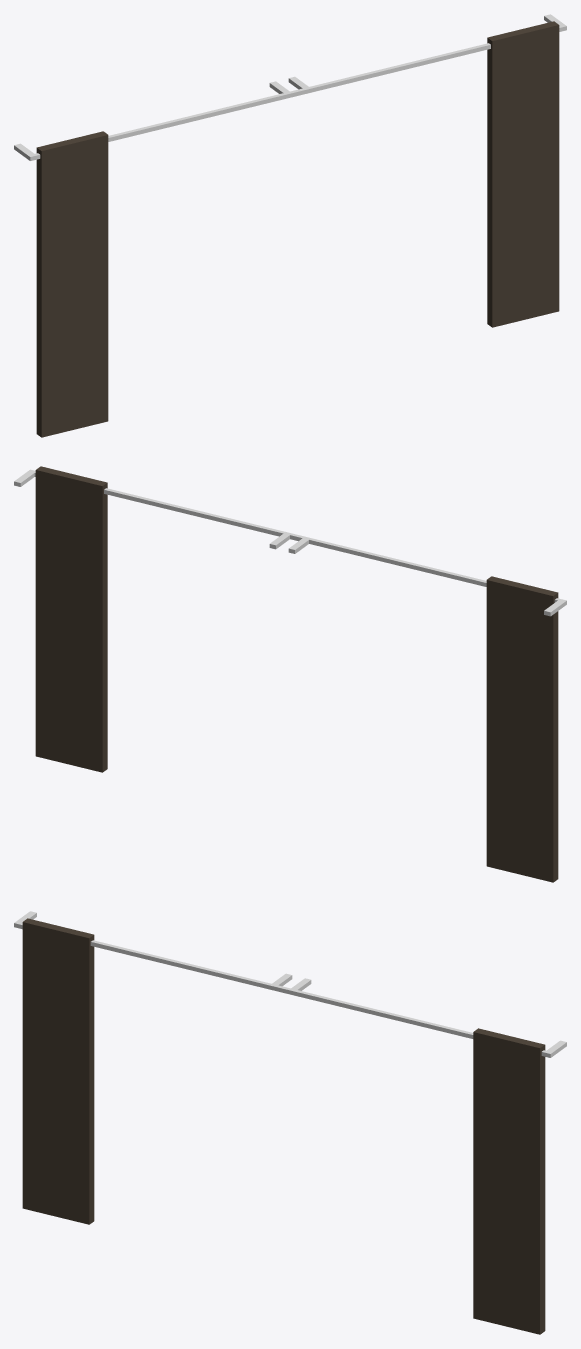
File: шторы.fbx
3 renders of one model, top to bottom at view 1: azimuth 30°, elevation 25°; view 2: azimuth 150°, elevation 25°; view 3: azimuth 330°, elevation 25°, orthographic.
Visible parts, largest first — view 1: Cube.002, Cube.001, Cube; view 2: Cube.002, Cube.001, Cube; view 3: Cube.001, Cube.002, Cube.
Boxes of the visible parts, x1,y1,x2,y2 form: Cube.002: [487, 21, 559, 327]; Cube.001: [36, 131, 108, 437]; Cube: [14, 14, 566, 160]; Cube.002: [35, 466, 107, 772]; Cube.001: [486, 576, 558, 882]; Cube: [14, 469, 566, 616]; Cube.001: [22, 918, 94, 1224]; Cube.002: [473, 1028, 545, 1334]; Cube: [14, 911, 566, 1057].
Size of the model in its own units: 1606 by 819 by 91.5.
